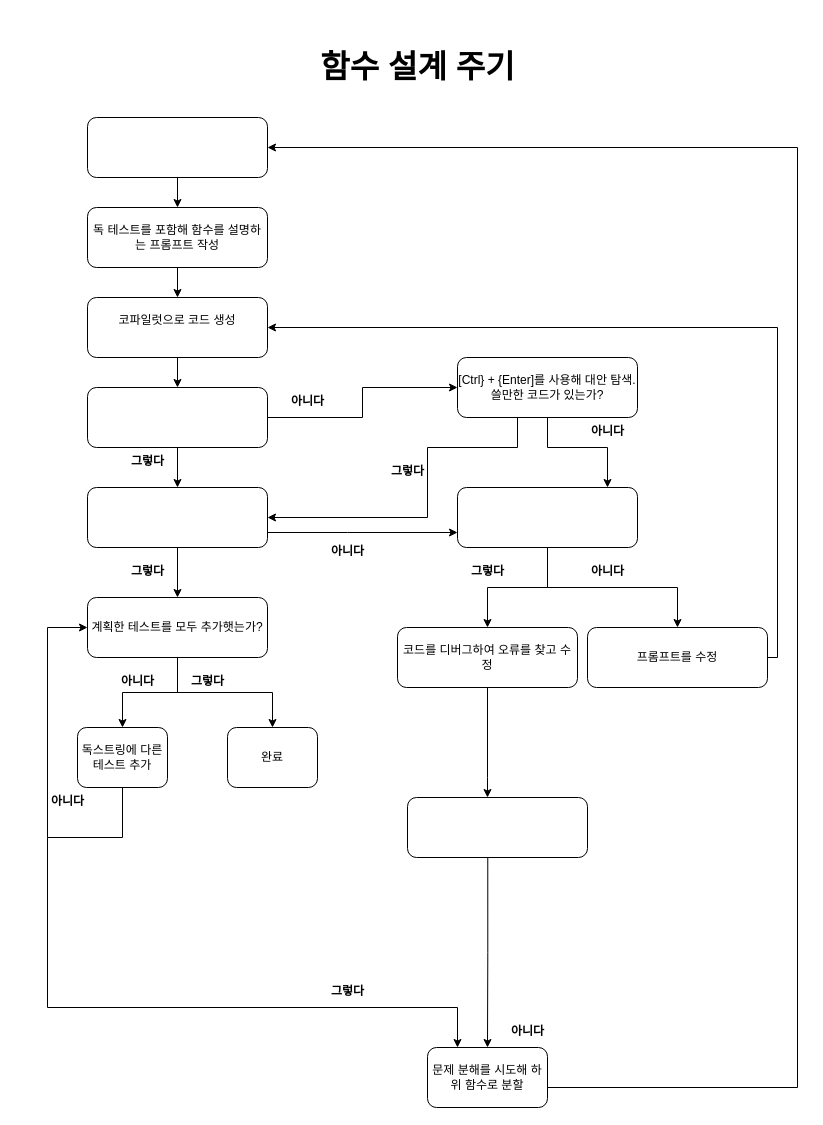
The diagram is 823 pixels wide and 1125 high, and some of its shapes have lost their labels. Each missing label, with the box of its shape:
독 테스트를 실행했을 때 테스트를 통과하는 가?: (86, 486, 268, 548)
생성된 코드가 함리적인지 확인: (86, 386, 268, 448)
오류를 해결했는가?: (406, 796, 588, 858)
프롬프트를 수정해 테스트에 실패한 부분이나 테스트에 대해 전보다 잘 설명한다.: (456, 486, 638, 548)
함수가 수행할 동작 정의: (86, 116, 268, 178)
